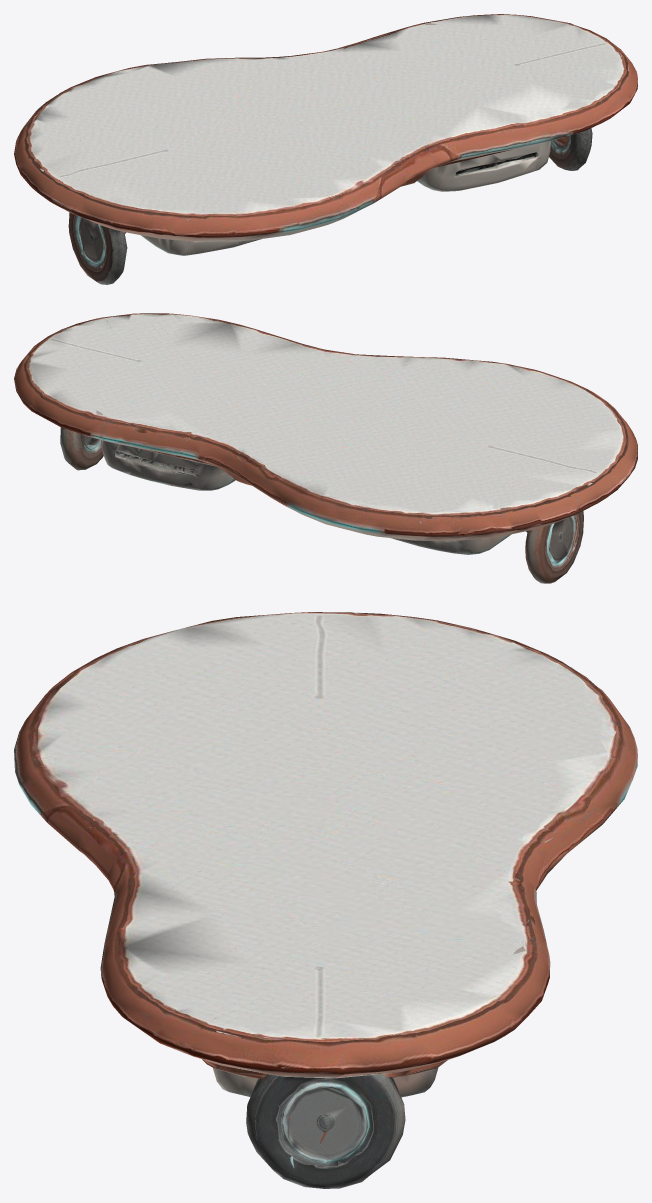
Rendered from hoverboard.glb.
3 views of the same model, one above another, from view 1: azimuth 30°, elevation 25°; view 2: azimuth 150°, elevation 25°; view 3: azimuth 270°, elevation 25° (orthographic). The views are drawn at different scales.
Size of the model in its own units: 1.9 by 0.3648 by 1.12.
Materials: 1 (1 with a texture image).
